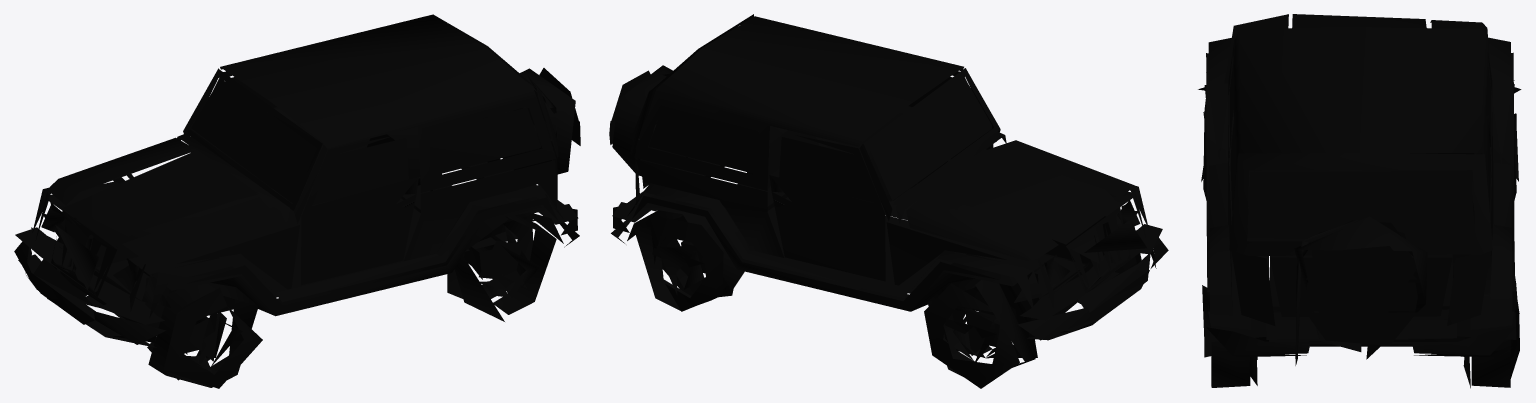
The model's file is car4Low.obj.
The picture shows the model from 3 angles, left to right: view 1: azimuth 30°, elevation 25°; view 2: azimuth 150°, elevation 25°; view 3: azimuth 270°, elevation 25°; orthographic projection. The views are drawn at different scales.
Bounding box in the file's own units: 3.88 × 1.63 × 1.83.
Materials: 1 (1 with a texture image).
